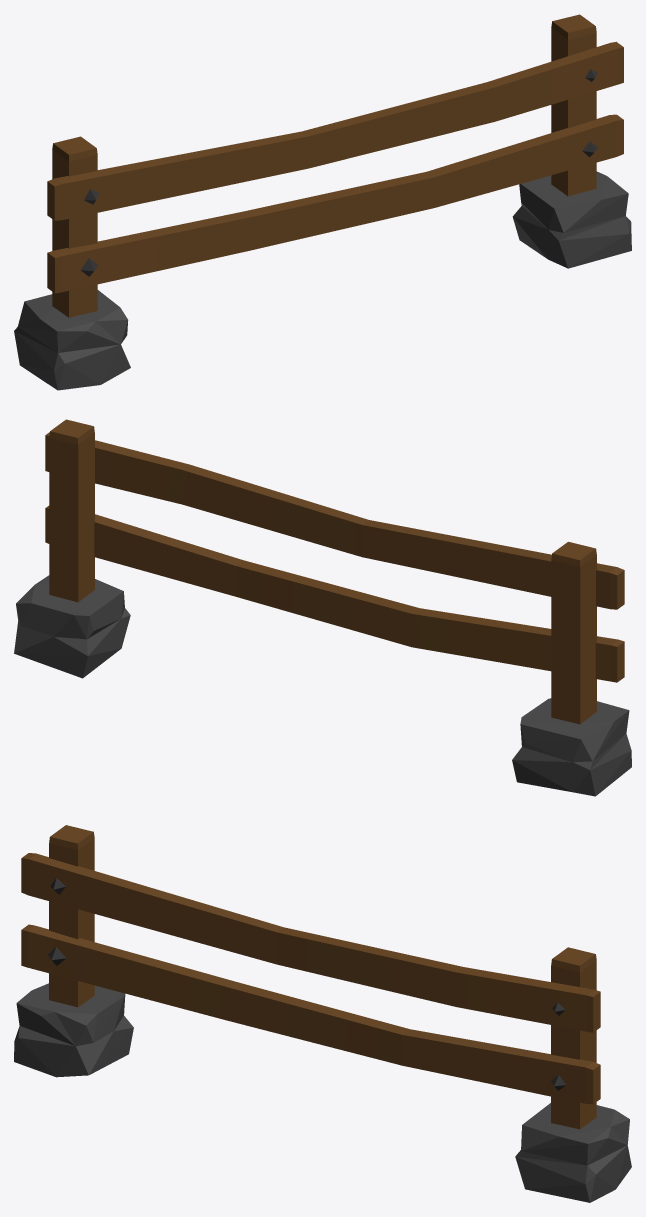
File: Woodenfence_long.fbx
3 renders of one model, top to bottom at view 1: azimuth 30°, elevation 25°; view 2: azimuth 150°, elevation 25°; view 3: azimuth 330°, elevation 25°, orthographic.
Parts seen in each view (by area): view 1: woodenfence_long; view 2: woodenfence_long; view 3: woodenfence_long.
Part boxes in pixels (x1,y1,x2,y2): woodenfence_long: (14, 14, 631, 390); woodenfence_long: (14, 419, 631, 796); woodenfence_long: (14, 825, 631, 1202).
Size of the model in its own units: 4.81 by 1.79 by 0.6504.
